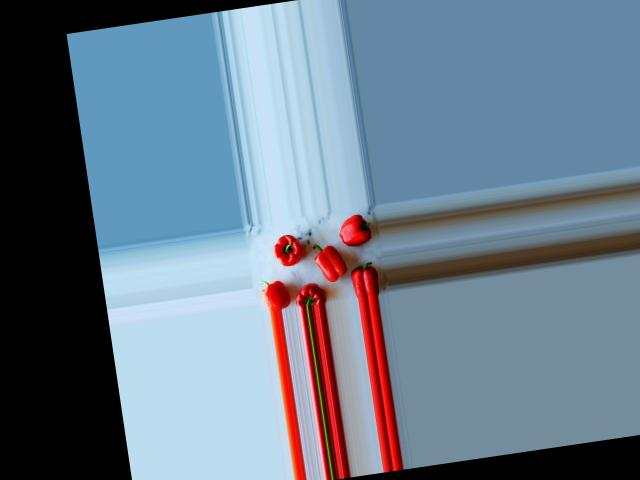bell_pepper: (294, 280, 327, 307)
